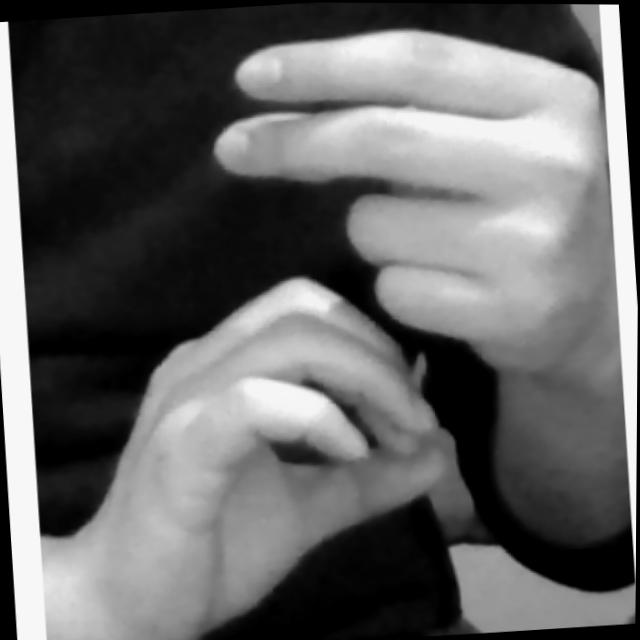O--: (39, 6, 640, 640)
